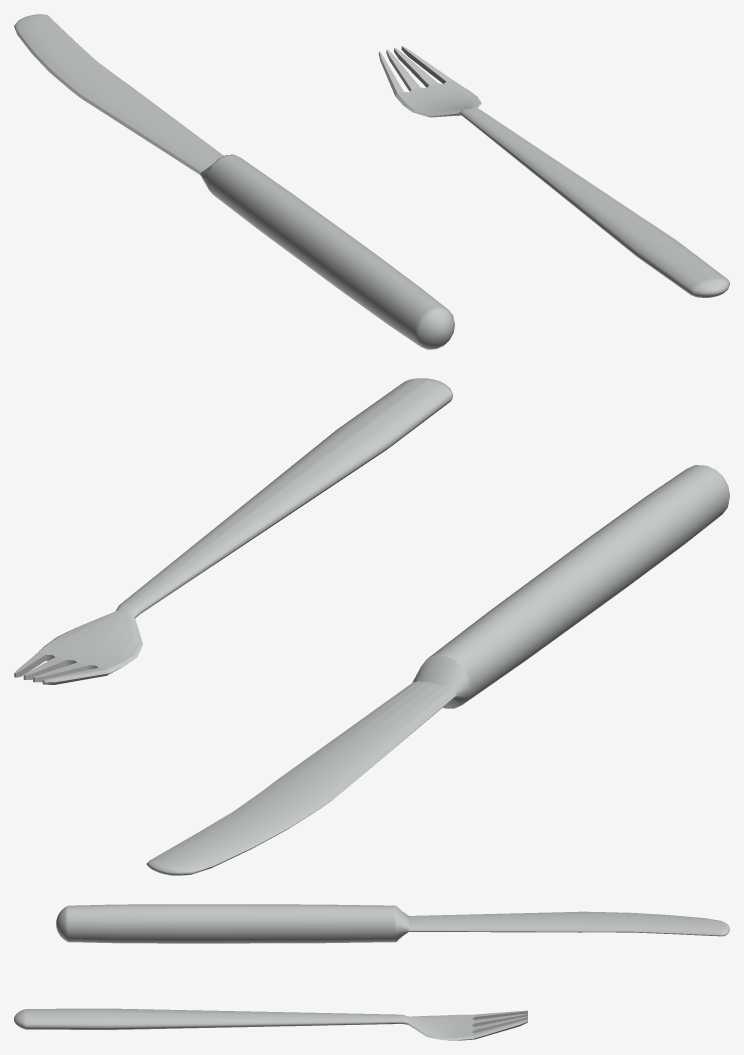
The model's file is knifeandforkvirginia.fbx.
3 renders of one model, top to bottom at view 1: azimuth 30°, elevation 25°; view 2: azimuth 150°, elevation 25°; view 3: azimuth 270°, elevation 25°, orthographic. The views are drawn at different scales.
Parts seen in each view (by area): view 1: knife, fork; view 2: knife, fork; view 3: knife, fork.
Part boxes in pixels (bbox=[...]): knife: bbox=[14, 14, 454, 349]; fork: bbox=[378, 46, 729, 297]; knife: bbox=[146, 465, 729, 875]; fork: bbox=[14, 378, 452, 684]; knife: bbox=[56, 904, 729, 943]; fork: bbox=[14, 1008, 527, 1040].
Size of the model in its own units: 14.27 by 2 by 36.22.
1 material, 1 textured.
